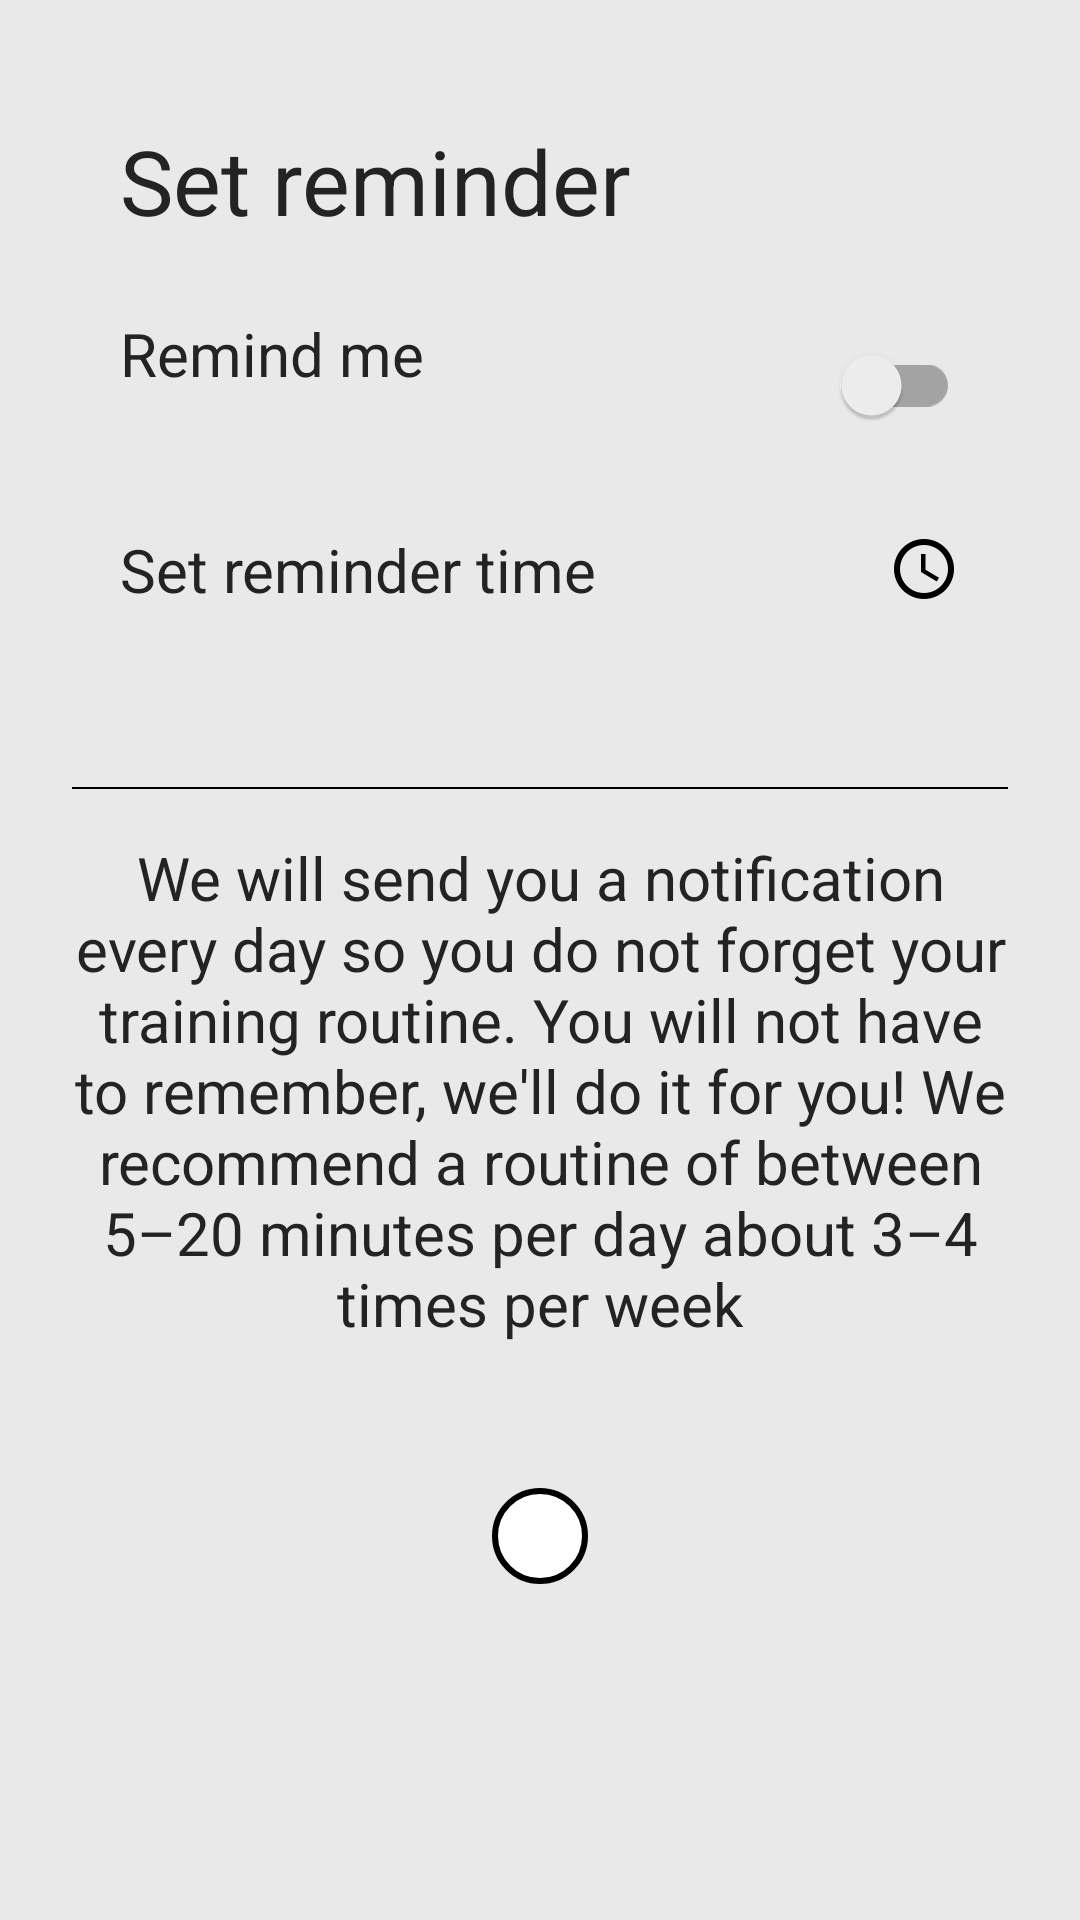

Icon click points for this 1080*1920 phone screenshot, format (x,y):
timer: (924,569)
